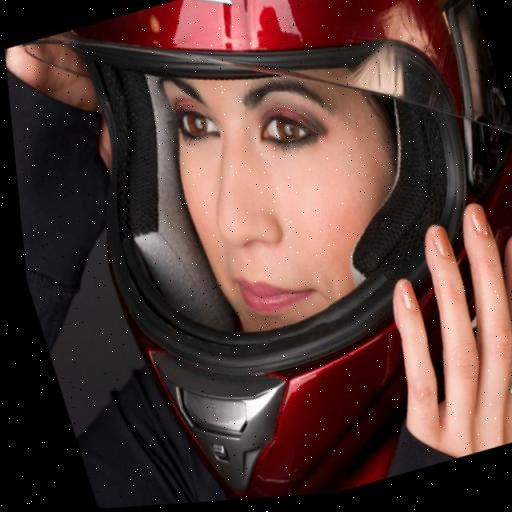Helmet: (19, 0, 512, 511)
